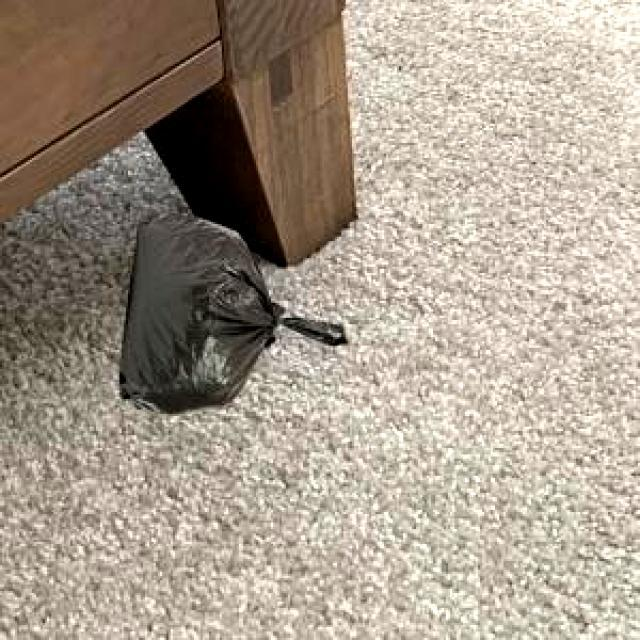Garbage_Bag: (118, 208, 344, 411)
